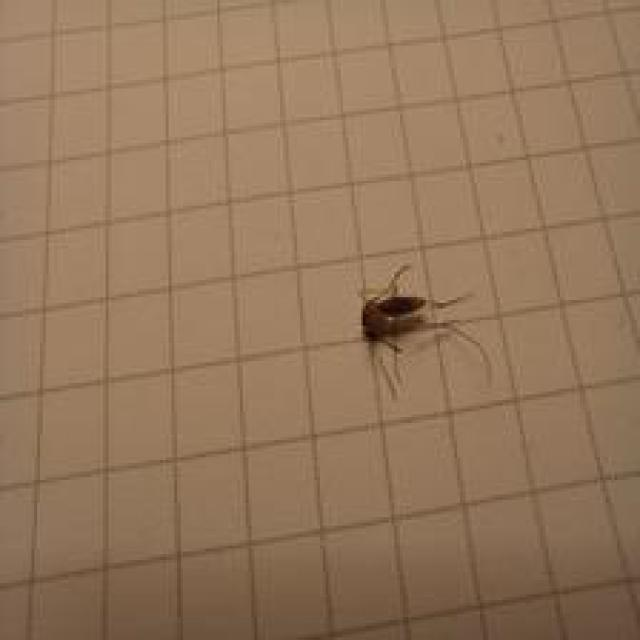Culex: (357, 262, 494, 402)
